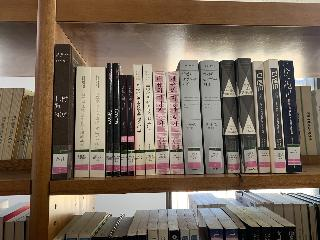book-spine: (180, 59, 204, 175), (200, 60, 224, 174), (278, 59, 302, 173), (52, 44, 71, 180), (236, 57, 258, 174), (220, 59, 242, 174), (267, 59, 286, 174), (152, 71, 170, 175), (166, 71, 184, 175), (75, 66, 91, 178), (254, 61, 270, 173), (90, 67, 105, 177), (133, 64, 145, 175), (143, 64, 155, 175), (126, 75, 135, 176), (106, 63, 113, 177), (120, 75, 127, 176), (114, 62, 120, 177)
